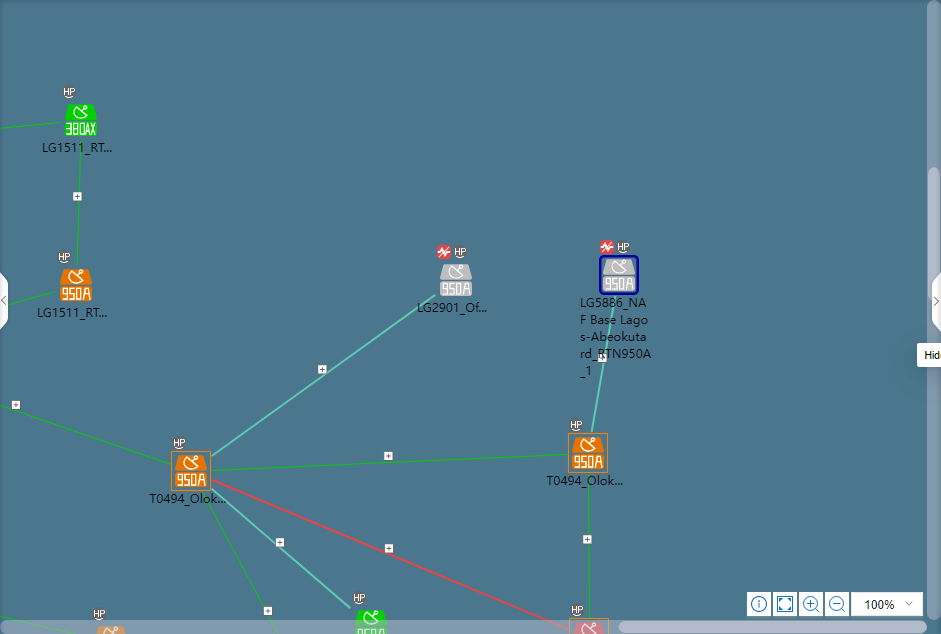Link_Blue: (209, 291, 434, 460), (215, 490, 354, 613), (591, 296, 619, 418)
Link_Green: (3, 402, 172, 464), (203, 490, 278, 624), (215, 449, 572, 470), (74, 138, 82, 264), (9, 291, 49, 305), (3, 120, 57, 129)
Link_Red: (216, 479, 544, 624)
RTN_Green: (68, 102, 101, 135), (356, 608, 390, 634)
RTN_Orange: (438, 261, 470, 301), (603, 255, 635, 295), (568, 438, 607, 470), (173, 455, 207, 488), (62, 267, 96, 299)
RTN_Red: (568, 620, 607, 634)
